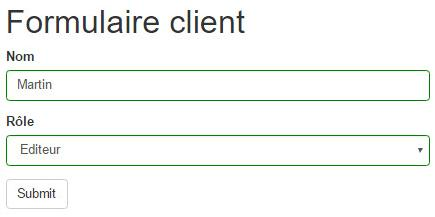button: (6, 178, 68, 210)
field: (3, 68, 430, 101), (5, 134, 431, 167)
field_with_label: (1, 50, 431, 102), (4, 116, 431, 168)
